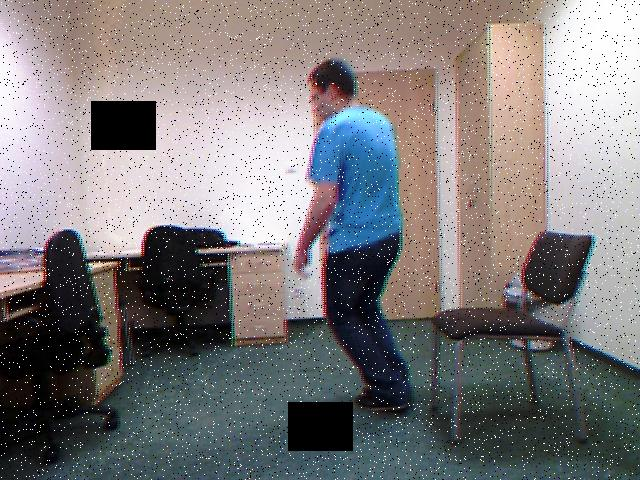near-fall: (291, 51, 424, 422)
